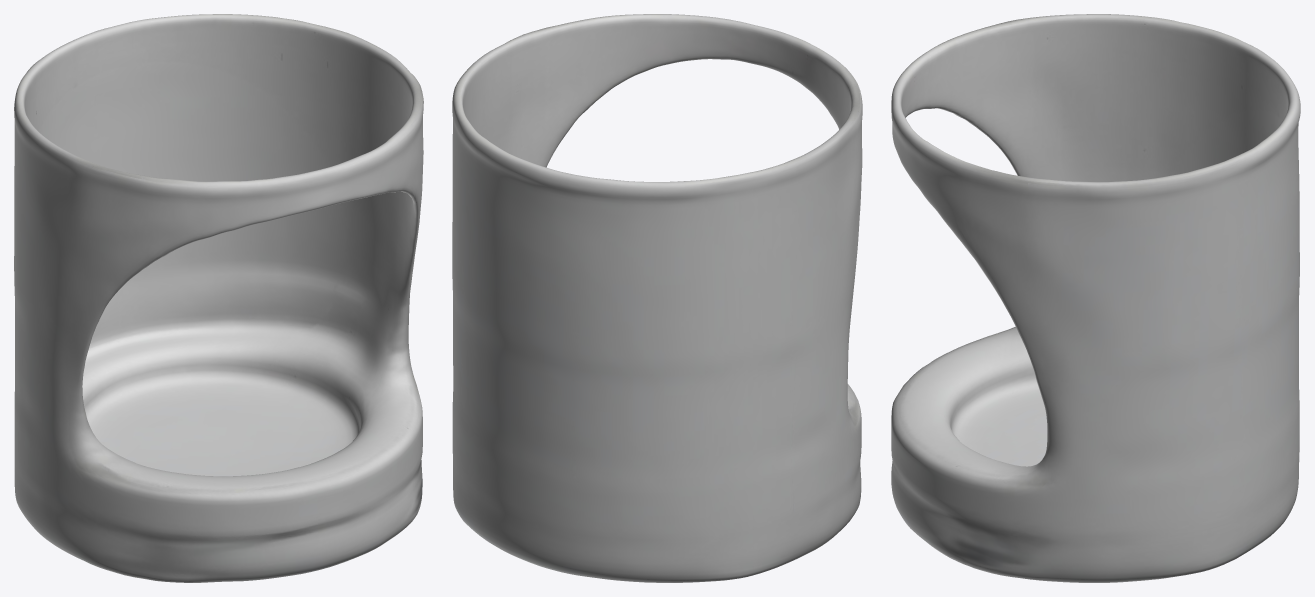
The model's file is model_rock_glass.glb.
The picture shows the model from 3 angles, left to right: view 1: azimuth 30°, elevation 25°; view 2: azimuth 150°, elevation 25°; view 3: azimuth 270°, elevation 25°; orthographic projection.
Parts seen in each view (by area): view 1: tripo_node_32098fe0-f764-474f-9910-176de9fd9317; view 2: tripo_node_32098fe0-f764-474f-9910-176de9fd9317; view 3: tripo_node_32098fe0-f764-474f-9910-176de9fd9317.
Boxes of the visible parts, box(x1,y1,x2,y2) form: tripo_node_32098fe0-f764-474f-9910-176de9fd9317: box(14, 14, 423, 582); tripo_node_32098fe0-f764-474f-9910-176de9fd9317: box(452, 14, 862, 582); tripo_node_32098fe0-f764-474f-9910-176de9fd9317: box(891, 14, 1300, 582).
Bounding box in the file's own units: 0.9199 × 0.9994 × 0.918.
Materials: 1 (1 with a texture image).
